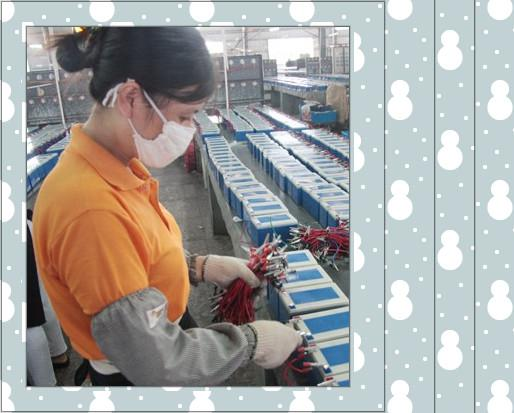OK: (134, 100, 203, 169)
